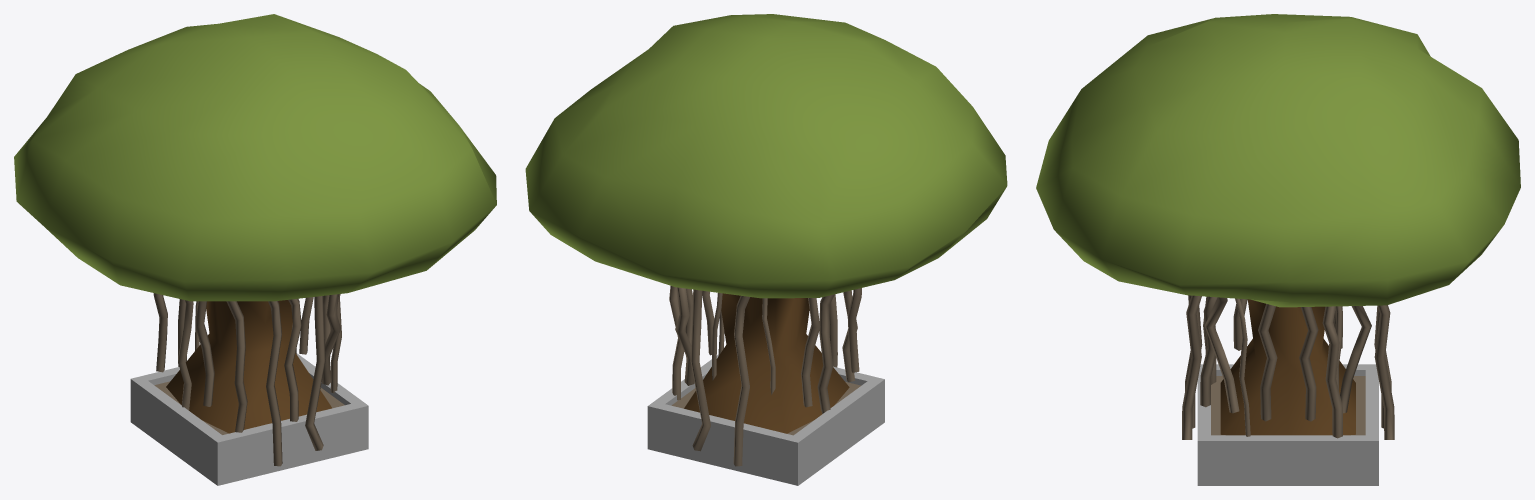
File: Beringin_Pinggir.fbx
3 views of the same model, side by side, from view 1: azimuth 30°, elevation 25°; view 2: azimuth 150°, elevation 25°; view 3: azimuth 270°, elevation 25° (orthographic). The views are drawn at different scales.
Parts seen in each view (by area): view 1: Beringin_Pinggir; view 2: Beringin_Pinggir; view 3: Beringin_Pinggir.
Part boxes in pixels (x1,y1,x2,y2): Beringin_Pinggir: (14,14,496,485); Beringin_Pinggir: (525,14,1007,485); Beringin_Pinggir: (1036,14,1520,485).
Bounding box in the file's own units: 366 × 340 × 360.
1 material, 1 textured.
